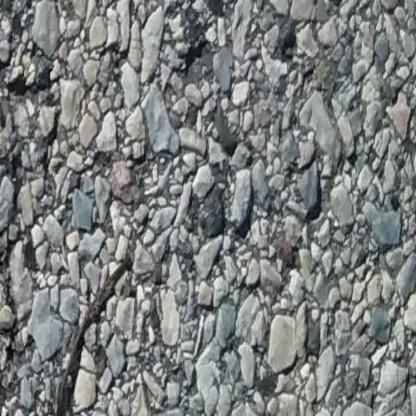Cracks: (0, 211, 22, 416), (0, 54, 48, 110)
